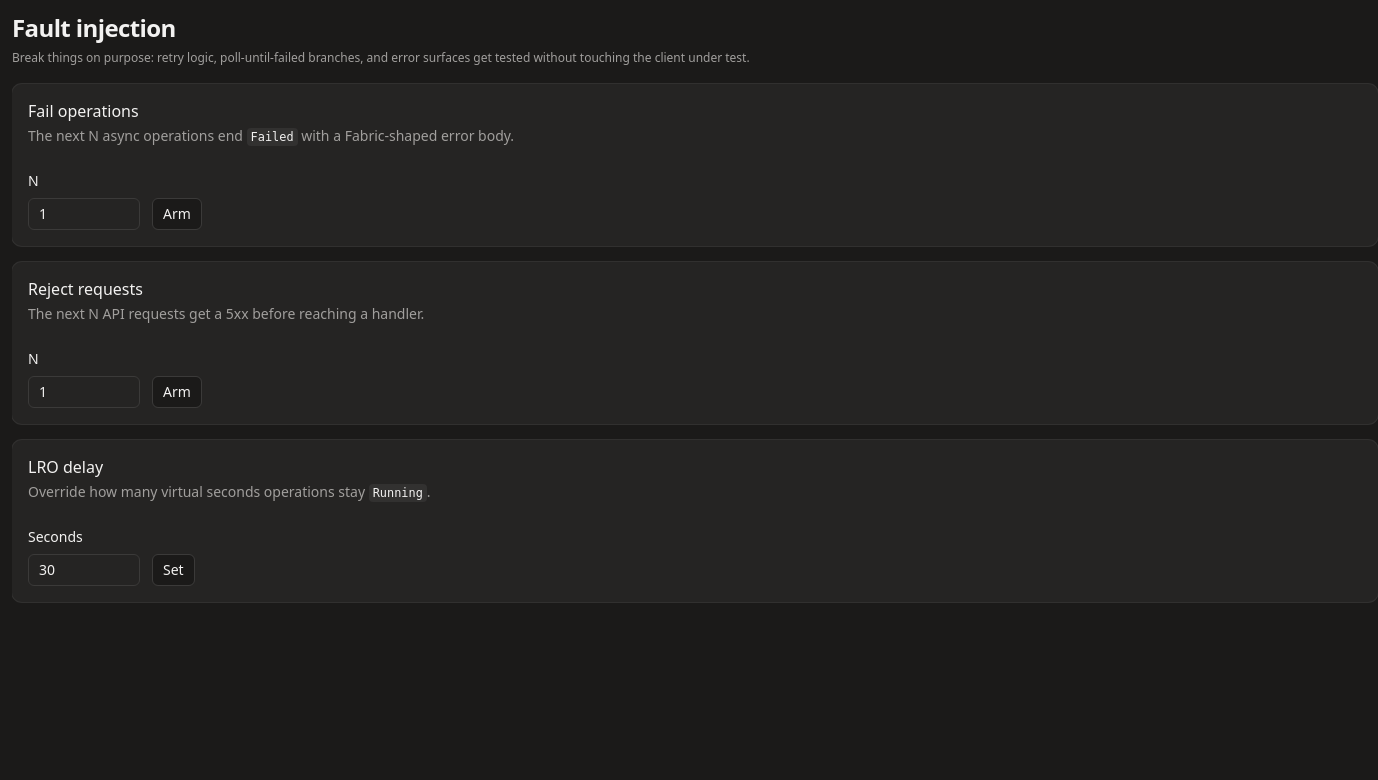
Scenario: Faults › arms operation failures and confirms
Step 1. Replace the text in the number field labelled "N" below "The next N async operations end" with "3" → (84, 214), box 28,198 -> 140,230
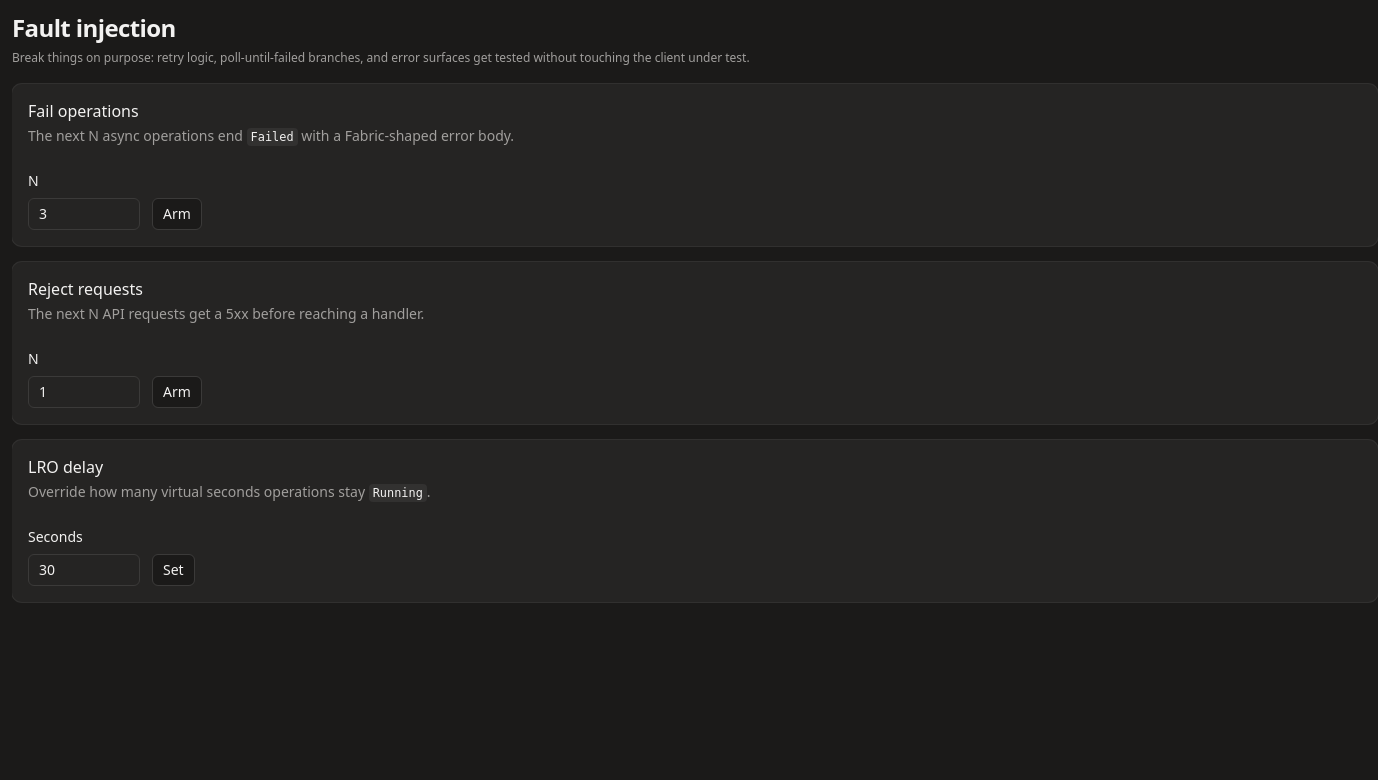
Step 2. Click the button "Arm" below "The next N async operations end" → click(177, 214), box 152,198 -> 202,230
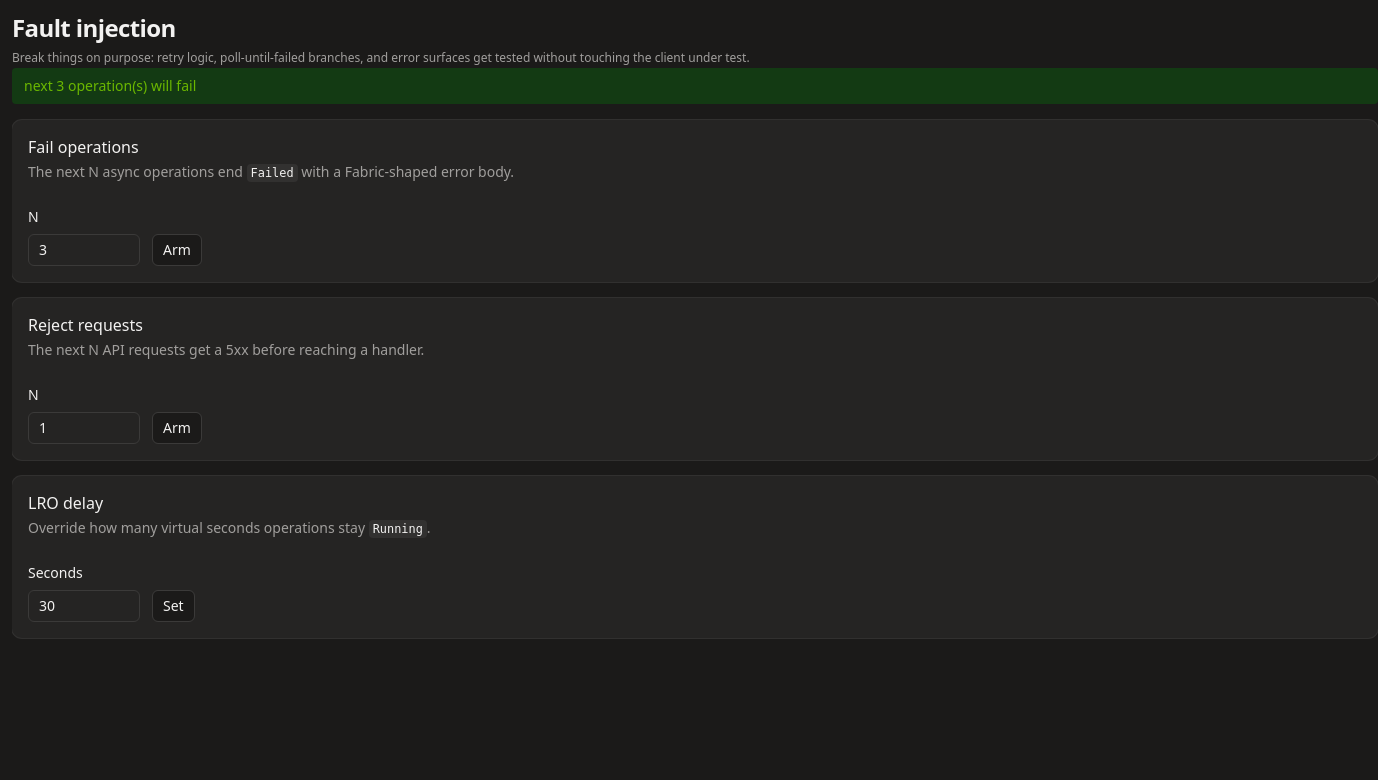
Now the text "next 3 operation(s) will fail" is shown, box 12,68 -> 1377,104
